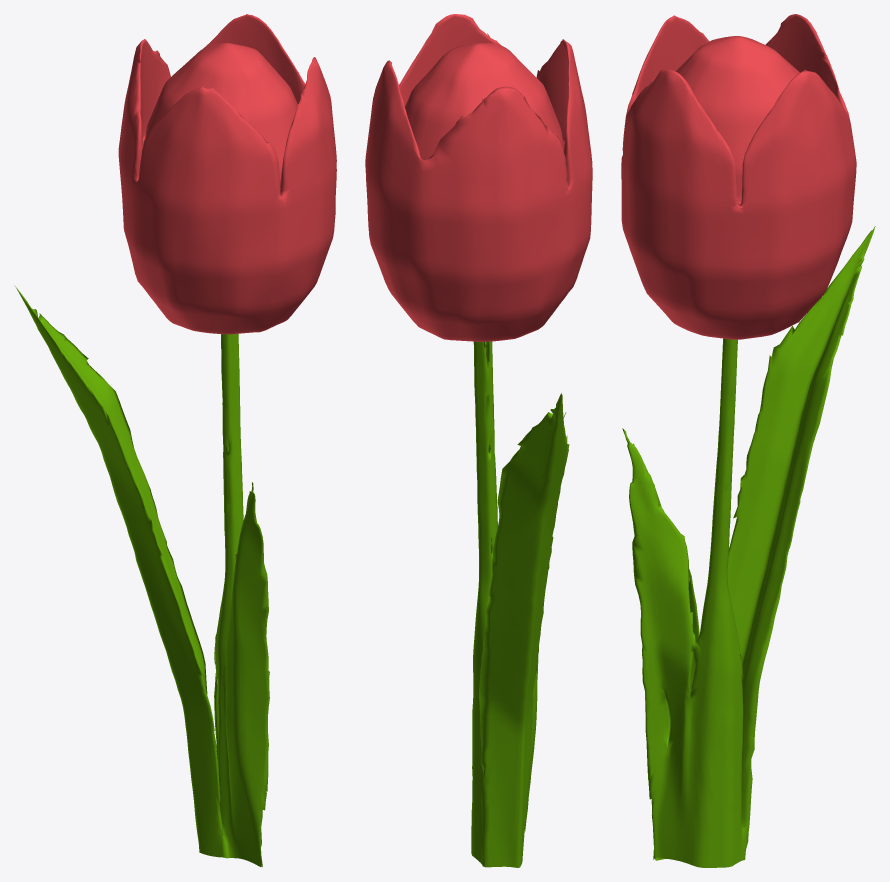
Rendered from red2.glb.
The picture shows the model from 3 angles, left to right: view 1: azimuth 30°, elevation 25°; view 2: azimuth 150°, elevation 25°; view 3: azimuth 270°, elevation 25°; orthographic projection. The views are drawn at different scales.
Visible parts, largest first — view 1: tulip_red, tulip_leaf; view 2: tulip_red, tulip_leaf; view 3: tulip_red, tulip_leaf.
Boxes of the visible parts, left/top/right/bottom form: tulip_red: left=118, top=14, right=336, bottom=334; tulip_leaf: left=14, top=285, right=269, bottom=866; tulip_red: left=365, top=14, right=592, bottom=341; tulip_leaf: left=471, top=341, right=569, bottom=867; tulip_red: left=621, top=14, right=856, bottom=339; tulip_leaf: left=622, top=226, right=875, bottom=867.
Bounding box in the file's own units: 0.2801 × 0.8916 × 0.2477.
